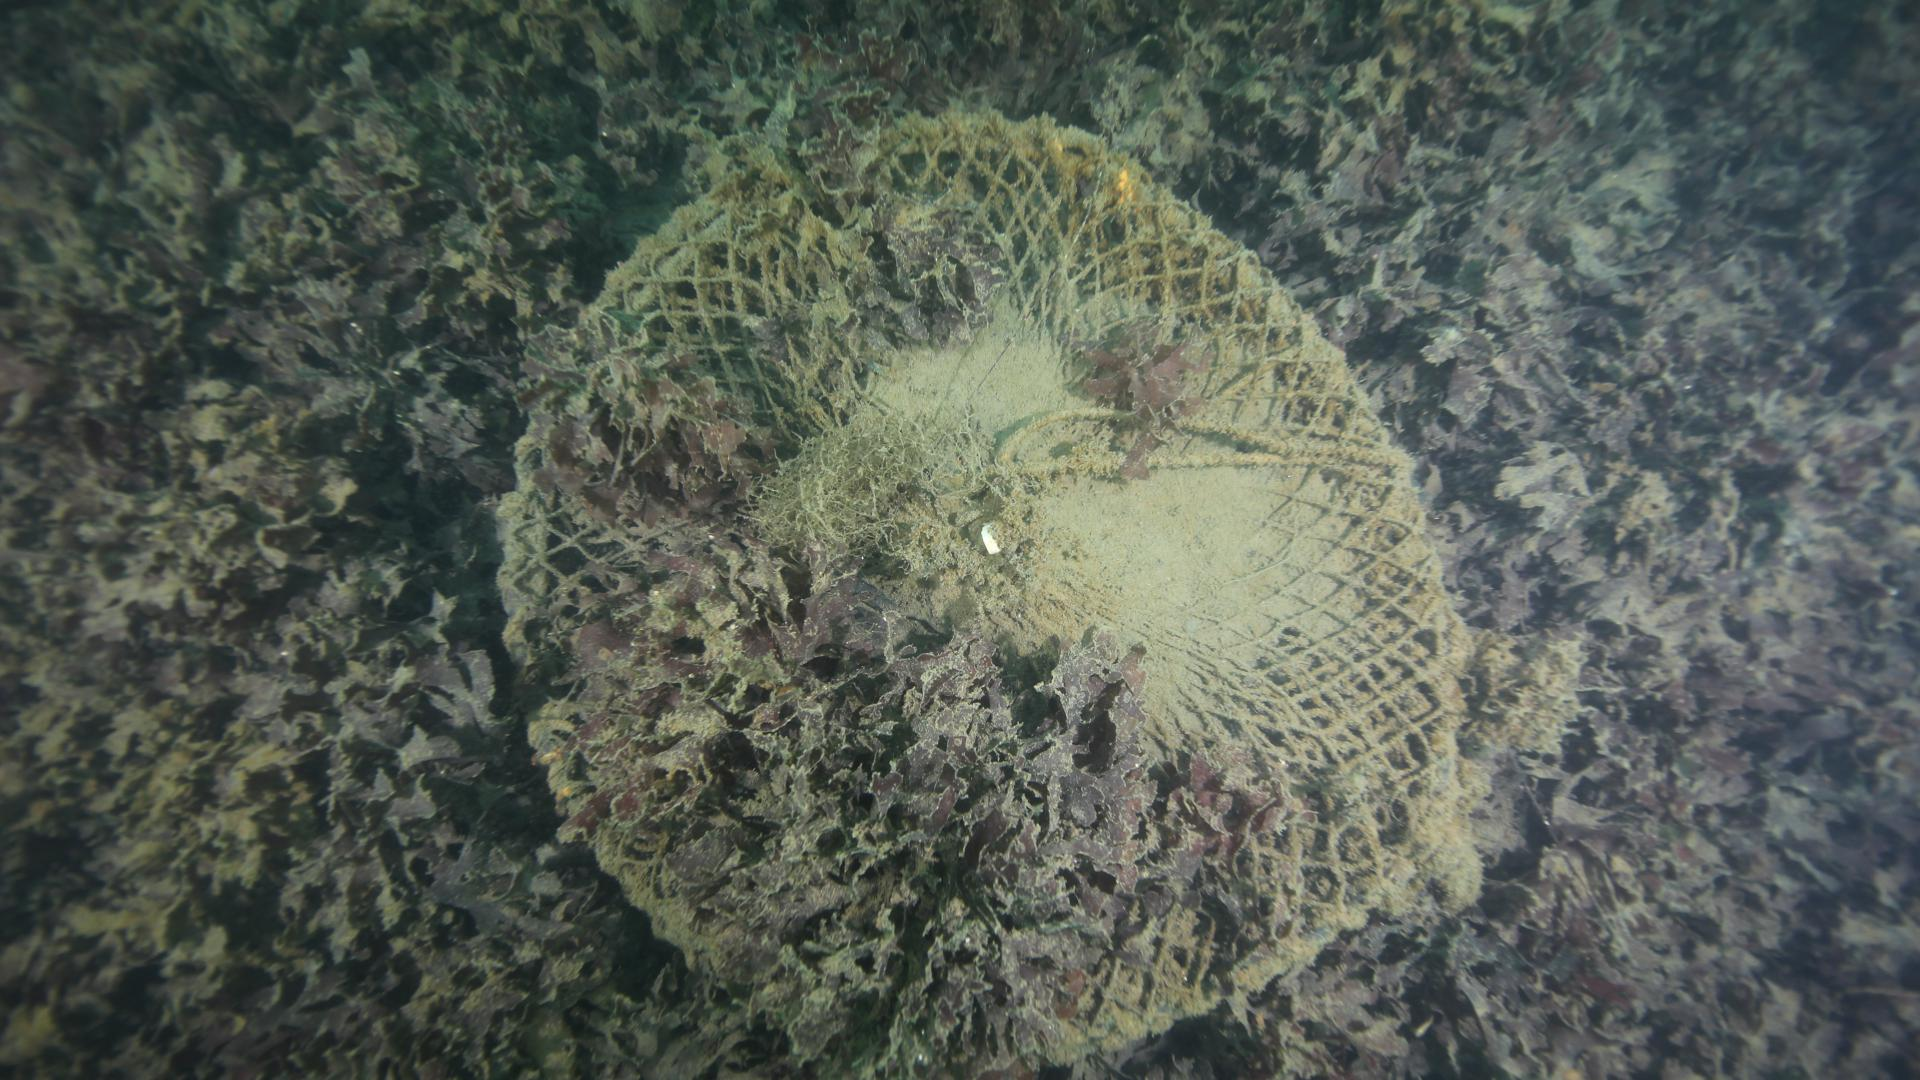circular fish trap: (492, 117, 1482, 1079)
